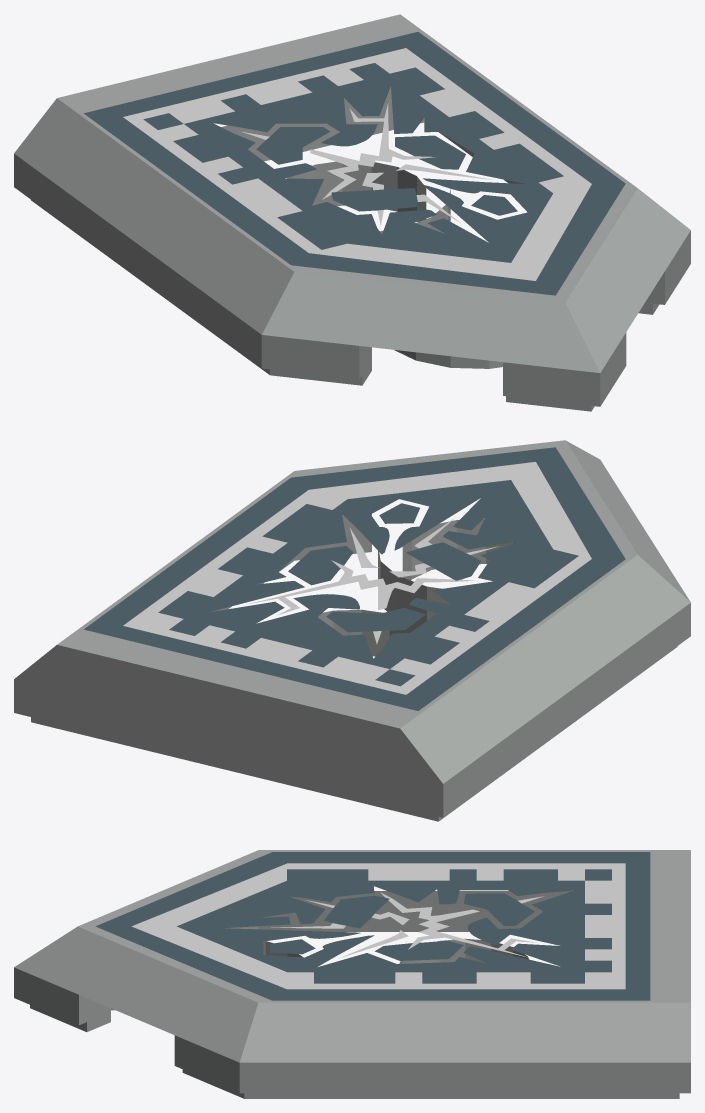
3 views of the same model, one above another, from view 1: azimuth 30°, elevation 25°; view 2: azimuth 150°, elevation 25°; view 3: azimuth 270°, elevation 25° (orthographic). The views are drawn at different scales.
Visible parts, largest first — view 1: world; view 2: world; view 3: world.
Boxes of the visible parts, x1=… form: world: x1=14, y1=14, x2=690, y2=411; world: x1=14, y1=440, x2=690, y2=821; world: x1=14, y1=850, x2=690, y2=1098.
Bounding box in the file's own units: 0.016 × 0.0032 × 0.024.
